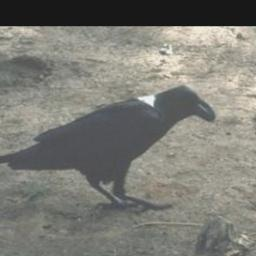Crow: (0, 83, 215, 214)
